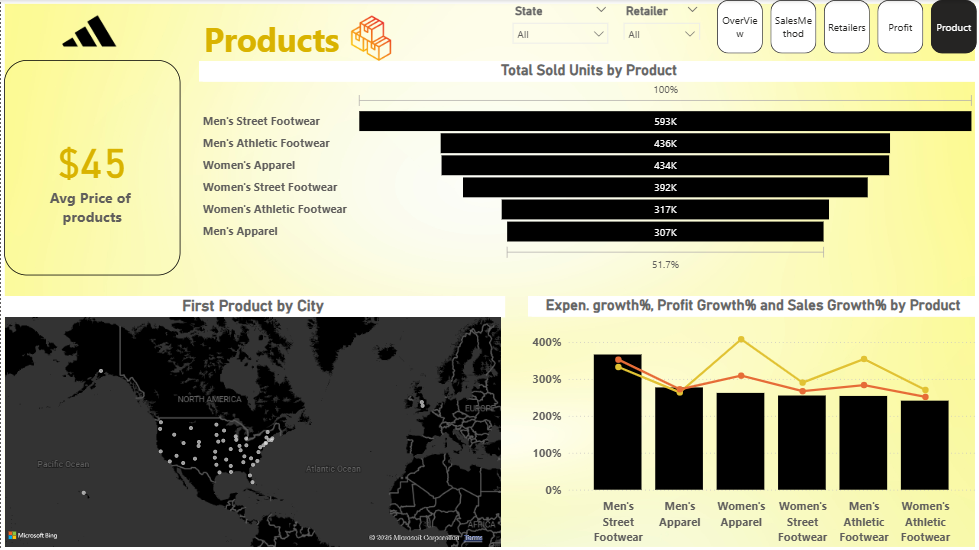

The page's visual inventory and layout, read from the dashboard file:
{"tool":"powerbi","page":{"name":"Product","canvas":[1280,720],"ordinal":4},"visuals":[{"type":"image","box":[0,0,1280,720.7],"z":0},{"type":"funnel","fields":{"Category":["DimProduct.Product"],"Y":["My measures.Total Sold Units"]},"box":[258.8,79.2,1021.2,279.9],"z":1000},{"type":"lineClusteredColumnComboChart","fields":{"Category":["DimProduct.Product"],"Y2":["My measures.Profit Growth%","My measures.sales growth %"],"Y":["My measures.Expenses growth%"]},"box":[690.4,388,589.6,332.6],"z":2000},{"type":"map","fields":{"Category":["DimCity.City"]},"box":[0,388,660.2,332.6],"z":3000},{"type":"image","box":[0,0,230.1,80.6],"z":4000},{"type":"card","fields":{"Values":["My measures.Avg Price of products"]},"box":[3.4,78.6,230.7,282],"z":5000},{"type":"textbox","box":[260.6,17.6,188.4,68.7],"z":6000},{"type":"image","box":[449.3,10.1,70.6,79.2],"z":7000},{"type":"pageNavigator","box":[937.5,0,342.5,70.6],"z":8000},{"type":"slicer","fields":{"Values":["Fact Data Sales Adidas.Retailer"]},"box":[805,0,119.5,51.8],"z":9000},{"type":"slicer","fields":{"Values":["DimState.State"]},"box":[659.5,0,145.4,70.6],"z":10000}]}

Visuals, with their boxes on the page's 1280x720 design canvas (x1, y1, x2, y2). These are canvas units, not pixel positions in the 979x550 screenshot, which may show the page scaled, cropped or inside an application window:
image: locate(0, 0, 1280, 721)
funnel - DimProduct.Product x My measures.Total Sold Units: locate(259, 79, 1280, 359)
lineClusteredColumnComboChart - DimProduct.Product x My measures.Profit Growth%: locate(690, 388, 1280, 721)
map - DimCity.City: locate(0, 388, 660, 721)
image: locate(0, 0, 230, 81)
card - My measures.Avg Price of products: locate(3, 79, 234, 361)
textbox: locate(261, 18, 449, 86)
image: locate(449, 10, 520, 89)
pageNavigator: locate(938, 0, 1280, 71)
slicer - Fact Data Sales Adidas.Retailer: locate(805, 0, 924, 52)
slicer - DimState.State: locate(660, 0, 805, 71)
